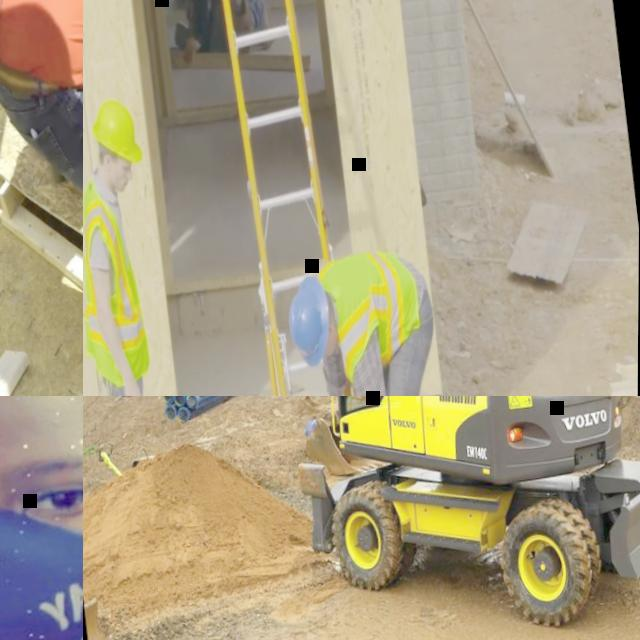Hardhat: (283, 274, 336, 370), (89, 95, 145, 170)
Mask: (0, 484, 83, 640)
NO-Hardhat: (0, 396, 83, 471)
NO-Mask: (114, 169, 130, 193), (327, 338, 338, 359)
NO-Safety Vest: (0, 0, 83, 100)
Person: (0, 0, 83, 396), (83, 94, 180, 396), (282, 241, 457, 396), (0, 396, 83, 640), (173, 0, 274, 64)
Safety Vest: (83, 169, 154, 389), (317, 246, 427, 387)
vehicle: (207, 396, 640, 640)
